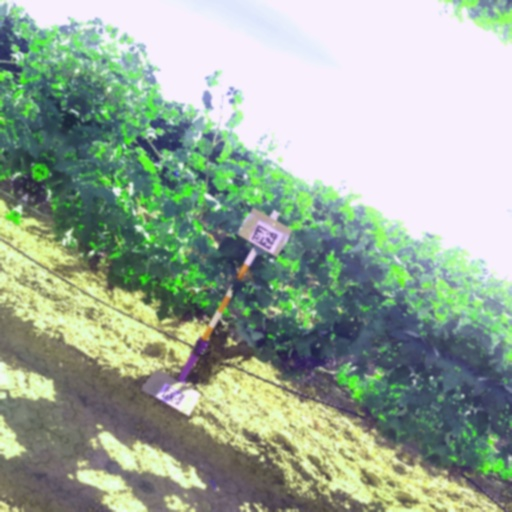QR: (249, 224, 279, 251), (161, 385, 184, 406)
